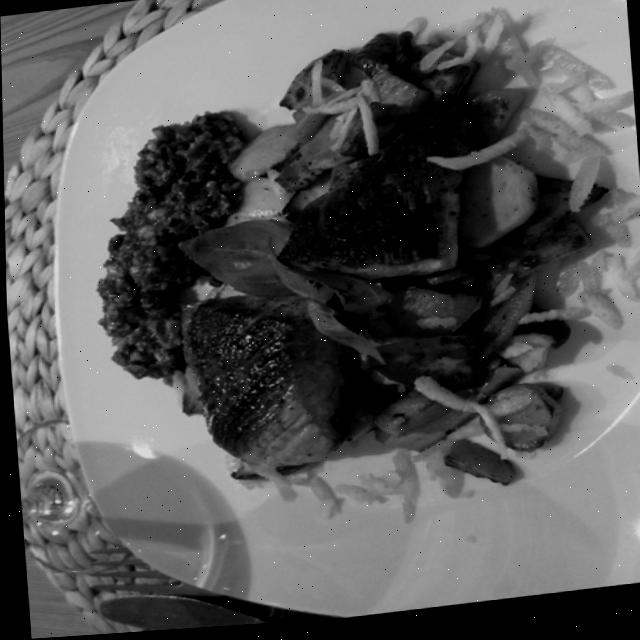猪肉菜式: (60, 0, 640, 587)
